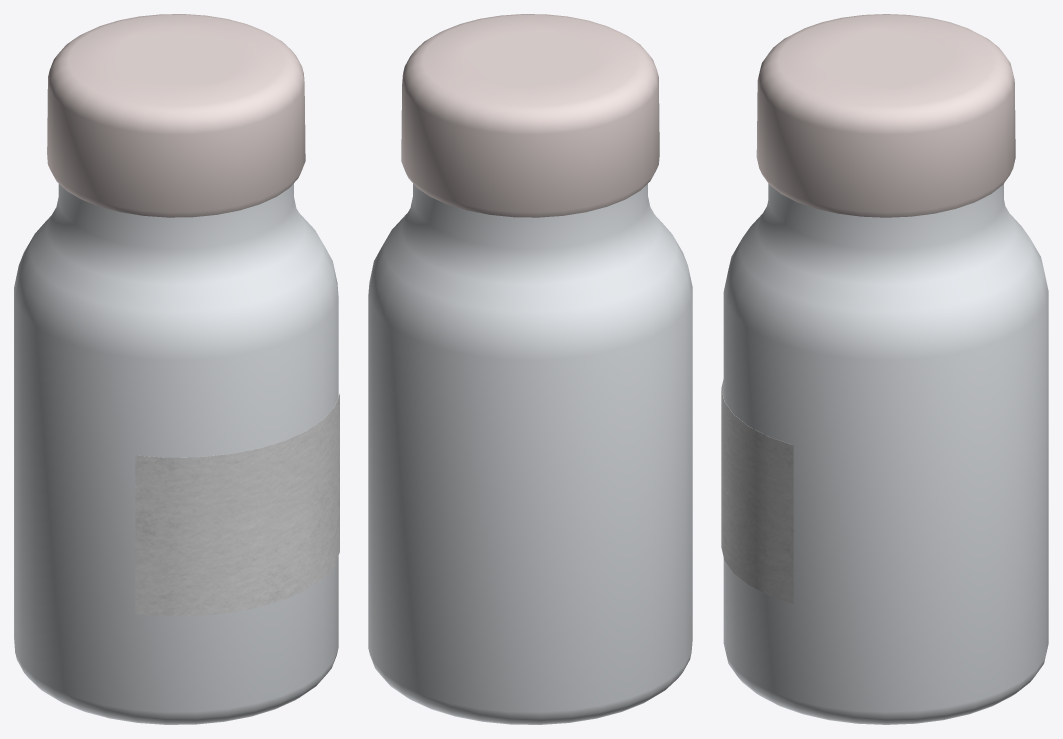
File: glass_vial_bottle copy.glb
3 views of the same model, side by side, from view 1: azimuth 30°, elevation 25°; view 2: azimuth 150°, elevation 25°; view 3: azimuth 270°, elevation 25° (orthographic).
Parts seen in each view (by area): view 1: Bottle, Lid, Label; view 2: Bottle, Lid; view 3: Bottle, Lid, Label.
Boxes of the visible parts, x1=… form: Bottle: x1=14, y1=183, x2=338, y2=724; Lid: x1=47, y1=14, x2=305, y2=217; Label: x1=135, y1=394, x2=339, y2=616; Bottle: x1=368, y1=184, x2=692, y2=724; Lid: x1=401, y1=14, x2=659, y2=217; Bottle: x1=723, y1=183, x2=1048, y2=724; Lid: x1=756, y1=14, x2=1015, y2=217; Label: x1=721, y1=379, x2=793, y2=603.
Bounding box in the file's own units: 0.1539 × 0.3162 × 0.1551.
4 materials, 4 textured.
